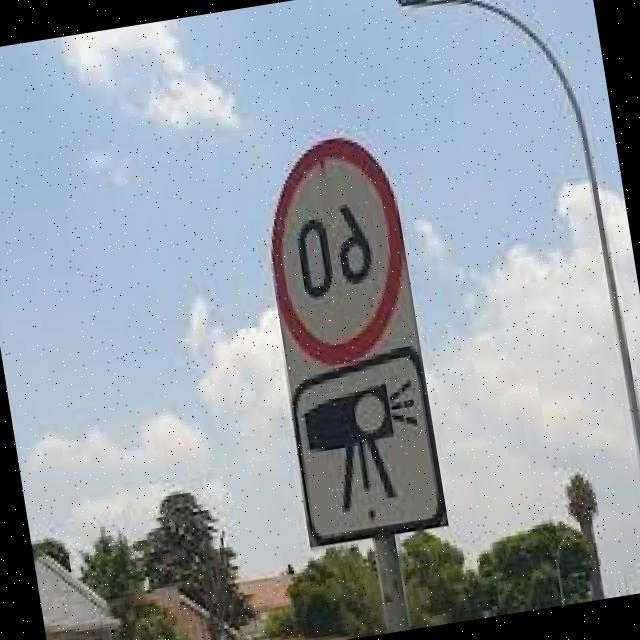speed_limit_60: (239, 122, 424, 381)
